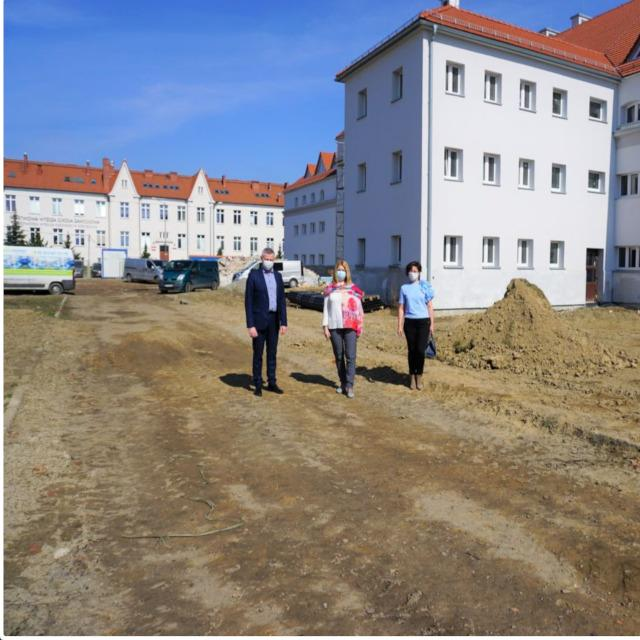kobieta: (321, 260, 366, 397), (400, 254, 442, 393)
mezczyzna: (236, 246, 291, 399)
